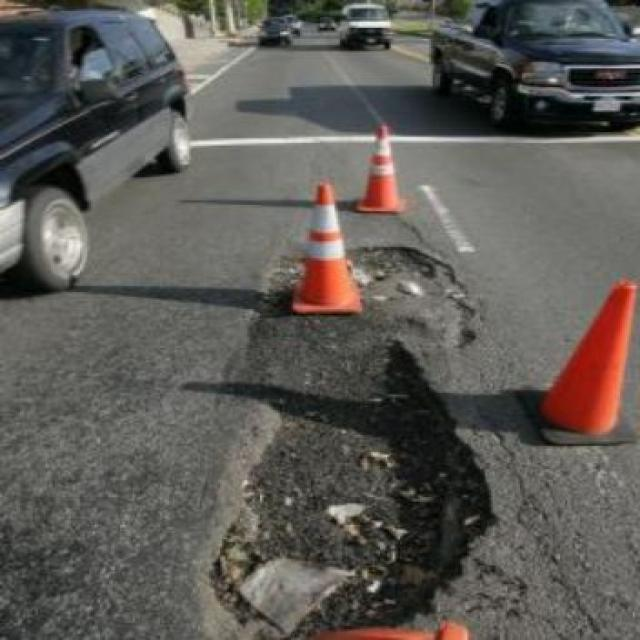Pothole: (203, 335, 503, 630)
